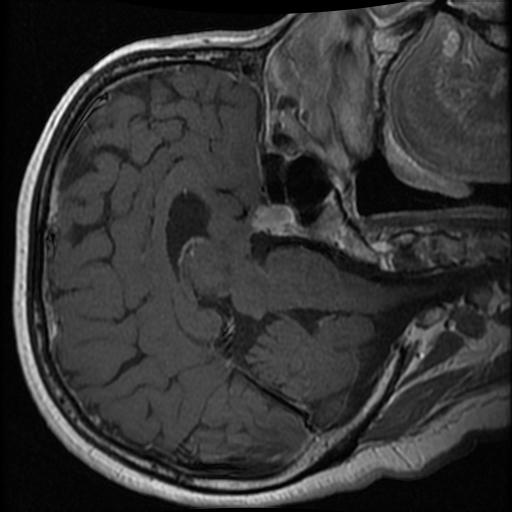pituitary tumour: (252, 206, 297, 233)
